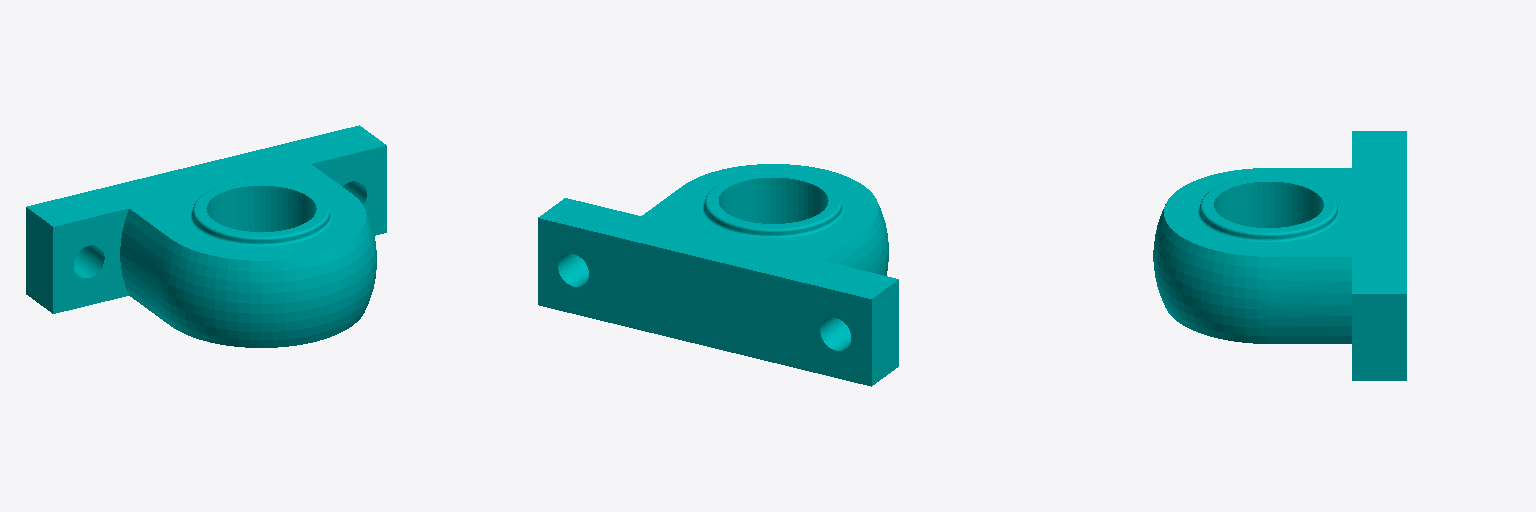
File: Bearing.obj
3 views of the same model, side by side, from view 1: azimuth 30°, elevation 25°; view 2: azimuth 150°, elevation 25°; view 3: azimuth 270°, elevation 25° (orthographic).
Visible parts, largest first — view 1: mesh18, mesh0, mesh2, mesh9, mesh7, mesh5, mesh4, mesh13, mesh19, mesh15, mesh14; view 2: mesh6, mesh0, mesh9, mesh4, mesh13, mesh7, mesh18, mesh19, mesh20, mesh15, mesh14; view 3: mesh0, mesh18, mesh8, mesh3, mesh9, mesh13, mesh15, mesh14.
Part boxes in pixels (x1,y1,x2,y2): mesh18: (161,212,376,347); mesh0: (27,125,386,260); mesh2: (53,209,128,313); mesh9: (206,186,316,231); mesh7: (120,209,169,324); mesh5: (312,146,386,235); mesh4: (26,207,52,313); mesh13: (195,181,327,236); mesh19: (74,245,104,277); mesh15: (193,181,329,239); mesh14: (190,208,332,246); mesh6: (538,218,871,386); mesh0: (538,164,898,298); mesh9: (719,178,828,223); mesh4: (872,280,898,385); mesh13: (708,173,839,228); mesh7: (824,231,873,272); mesh18: (865,204,888,275); mesh19: (820,318,850,350); mesh20: (558,254,588,286); mesh15: (705,173,841,231); mesh14: (702,200,844,238); mesh0: (1164,131,1406,293); mesh18: (1153,204,1268,343); mesh8: (1269,257,1351,343); mesh3: (1352,294,1406,380); mesh9: (1214,182,1323,227); mesh13: (1203,177,1334,232); mesh15: (1200,177,1337,235); mesh14: (1197,204,1339,242).
Size of the model in its own units: 0.14 by 0.041 by 0.092.